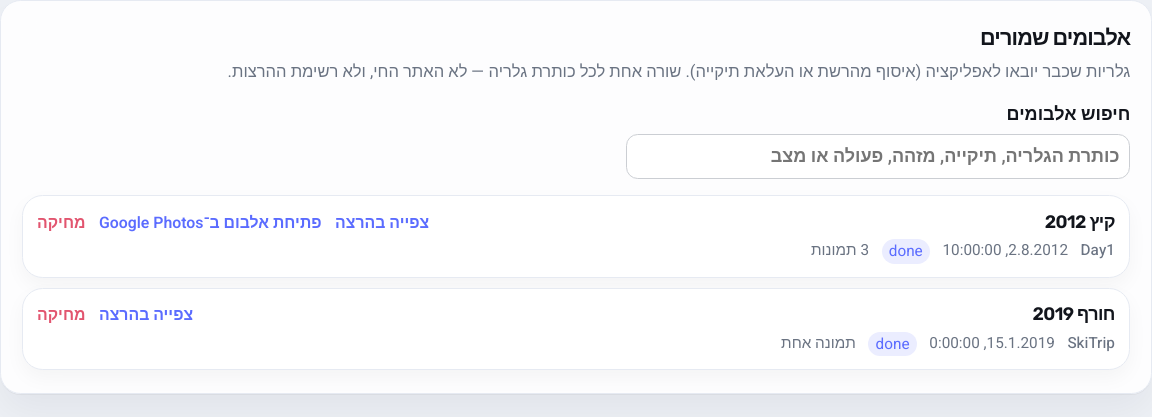
Scenario: AlbumLibrary › filters listed albums by title, folder label, id, and status
Expected: the text "קיץ 2012" is shown, [1045,211,1115,233]
Expected: the text "חורף 2019" is shown, [1032,303,1115,325]
In the search field labelled "חיפוש אלבומים": (878, 156) [626,134,1130,179], type "קיץ"
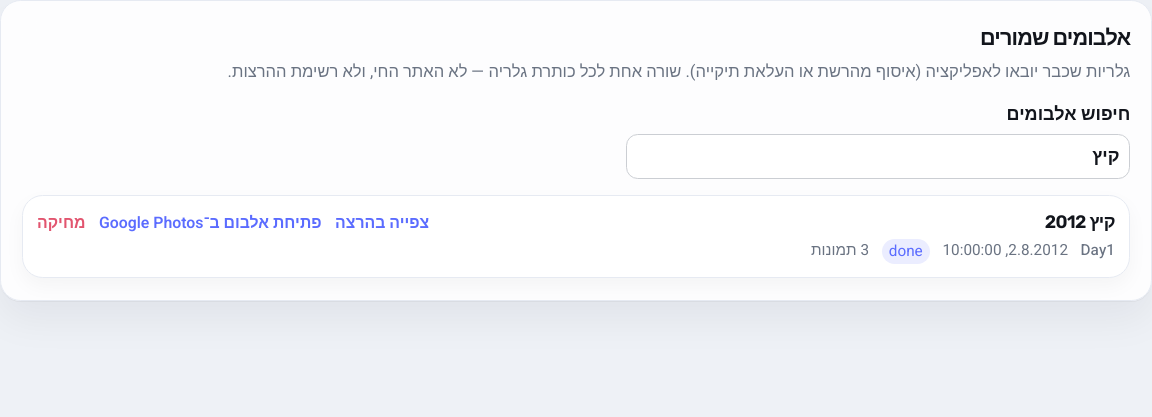
Expected: the text "קיץ 2012" is shown, [1045,211,1115,233]
Expected: the link "חורף 2019" is gone
Replace the text in the search field labelled "חיפוש אלבומים" with "SkiTrip": (878, 156) [626,134,1130,179]
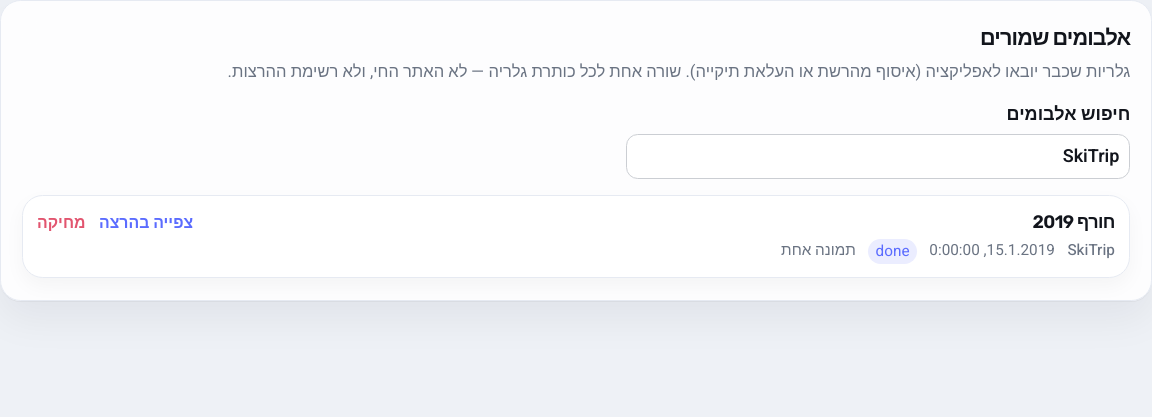
Expected: the link "קיץ 2012" is gone
Expected: the text "חורף 2019" is shown, [1032,211,1115,233]
Replace the text in the search field labelled "חיפוש אלבומים" with "job-summer": (878, 156) [626,134,1130,179]
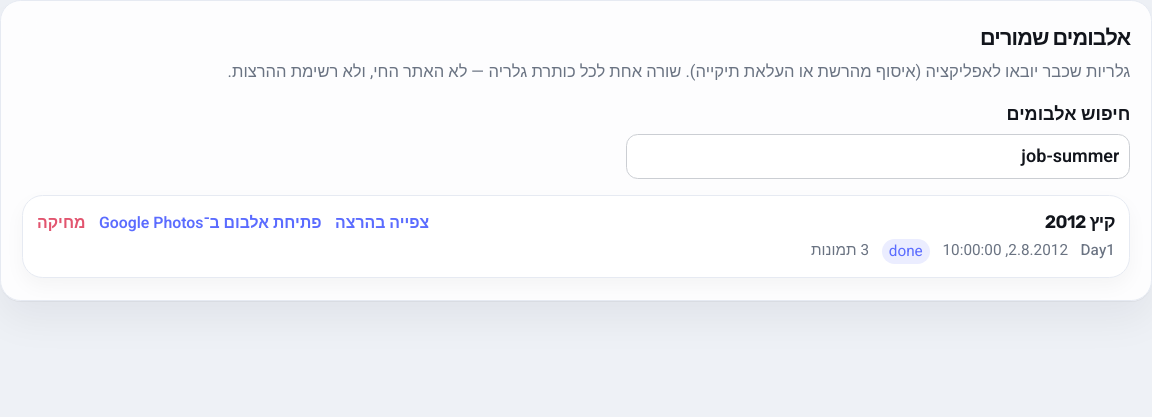
Expected: the text "קיץ 2012" is shown, [1045,211,1115,233]
Expected: the link "חורף 2019" is gone
Replace the text in the search field labelled "חיפוש אלבומים" with "preview": (878, 156) [626,134,1130,179]
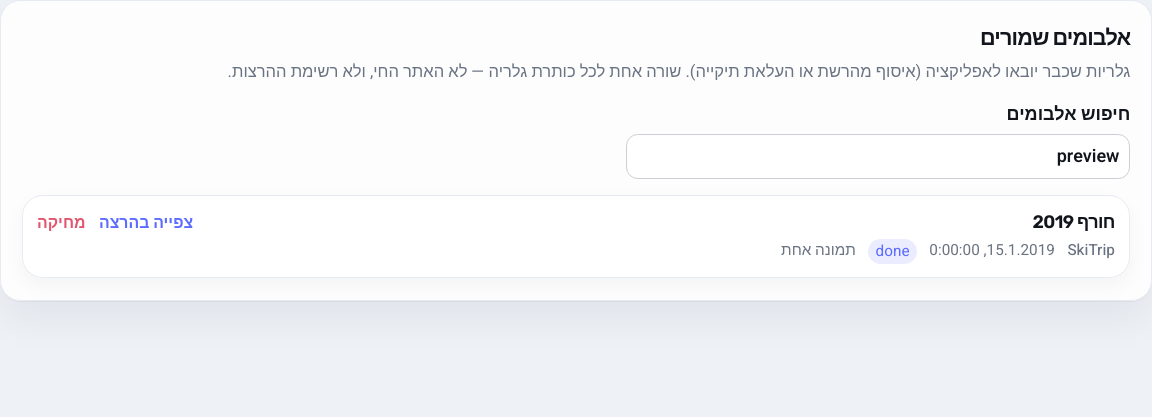
Expected: the link "קיץ 2012" is gone
Expected: the text "חורף 2019" is shown, [1032,211,1115,233]
